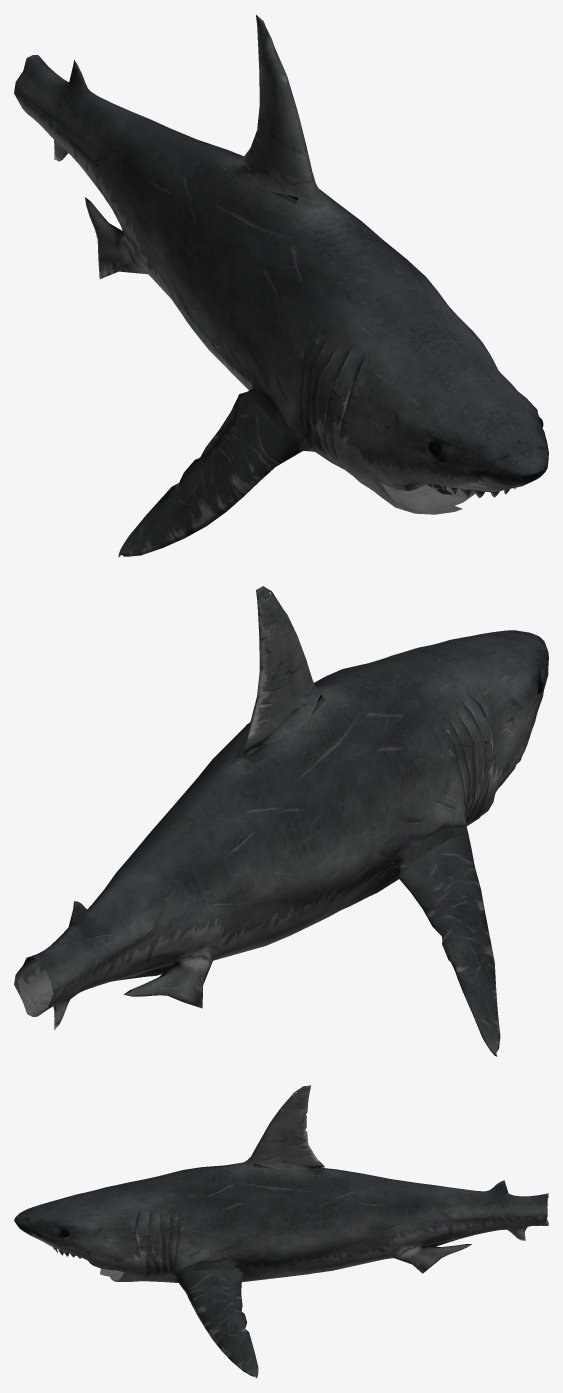
File: tibu10.obj
The picture shows the model from 3 angles, top to bottom: view 1: azimuth 30°, elevation 25°; view 2: azimuth 150°, elevation 25°; view 3: azimuth 270°, elevation 25°; orthographic projection. The views are drawn at different scales.
Visible parts, largest first — view 1: great_white_shark; view 2: great_white_shark; view 3: great_white_shark.
Boxes of the visible parts, x1,y1,x2,y2 form: great_white_shark: [14, 15, 548, 557]; great_white_shark: [14, 586, 548, 1056]; great_white_shark: [14, 1085, 548, 1377].
Bounding box in the file's own units: 2.97 × 3.45 × 6.85.
Materials: 3 (3 with a texture image).
